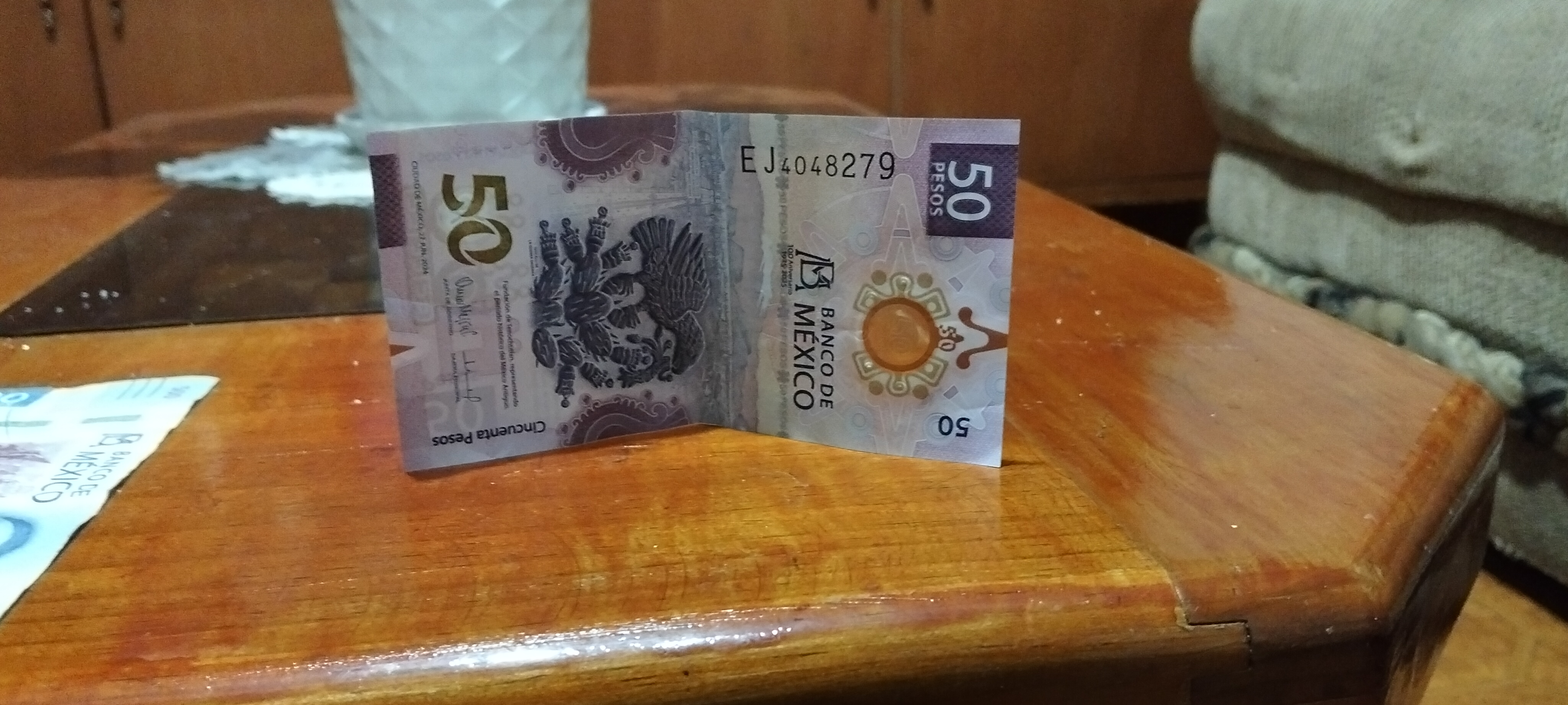billetes: (350, 94, 1059, 479)
